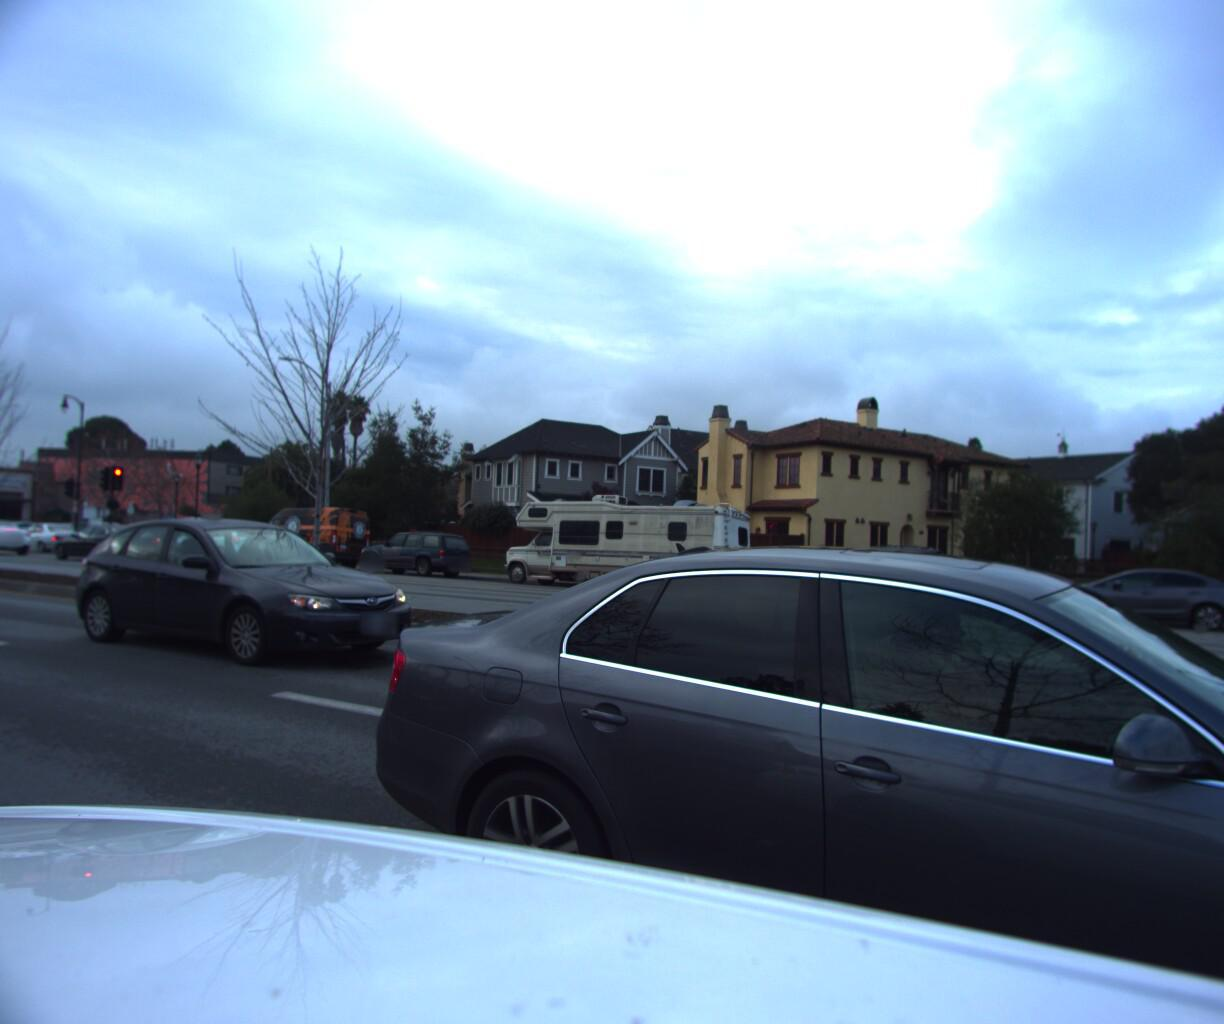car: (290, 541, 1224, 1024), (68, 520, 450, 688), (769, 536, 962, 615), (1027, 557, 1224, 635), (235, 505, 373, 573), (350, 528, 477, 583), (160, 521, 284, 569), (42, 525, 161, 569), (0, 523, 90, 557), (0, 518, 41, 560)
other_vehicle: (491, 489, 760, 600)
truck: (176, 513, 252, 545)
